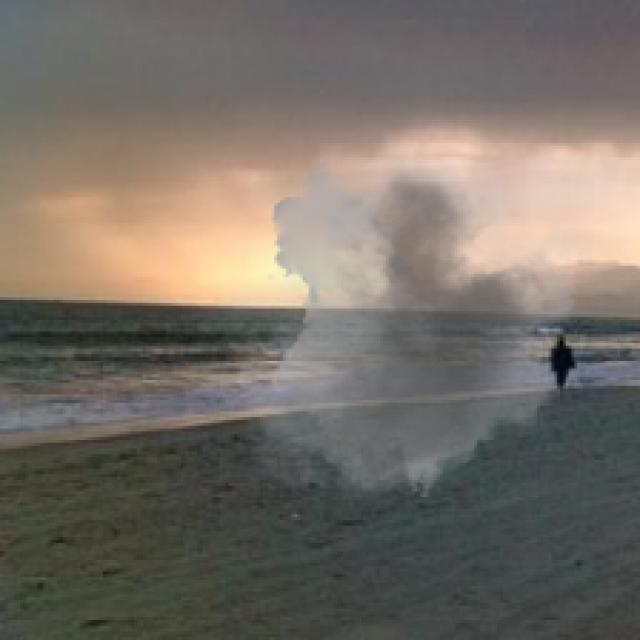Smoke: (188, 139, 598, 512)
